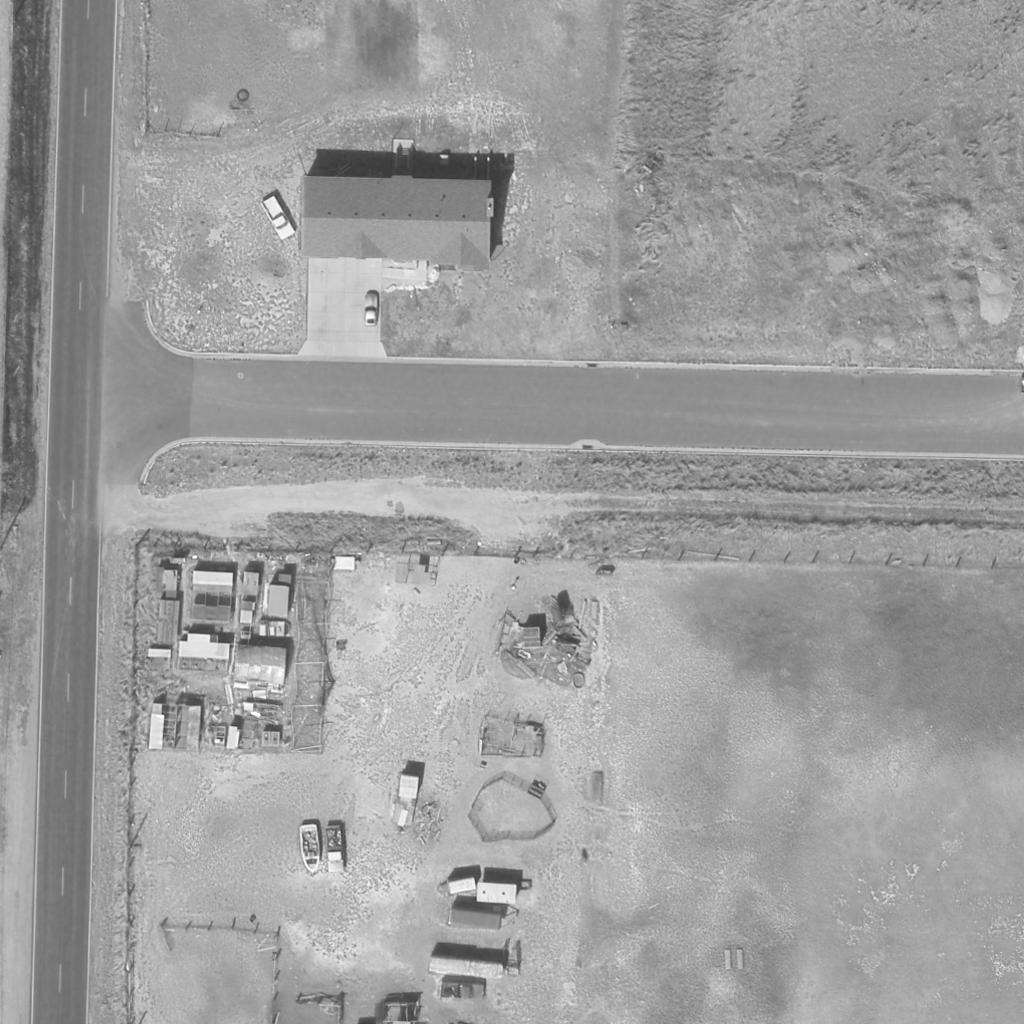vehicle: (261, 196, 295, 242), (324, 824, 348, 874), (299, 828, 321, 876), (364, 292, 380, 326)
